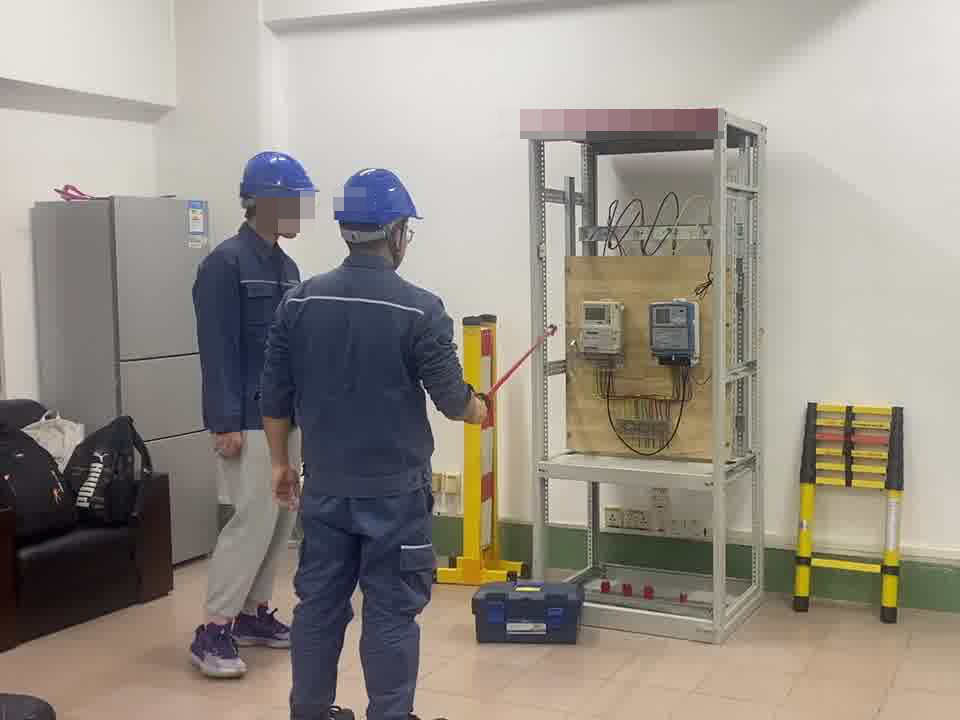downcloth: (202, 445, 276, 613)
downsuit: (284, 500, 437, 720)
halt: (334, 167, 423, 262), (237, 149, 319, 244)
hand: (269, 466, 305, 510), (209, 432, 245, 461)
inear: (378, 219, 412, 264), (251, 190, 286, 227)
person: (257, 142, 491, 719), (187, 146, 319, 681)
testrod: (476, 325, 556, 418)
upsuit: (261, 257, 472, 486), (193, 231, 295, 435)
wrongtop: (260, 385, 302, 511), (437, 376, 489, 424)
